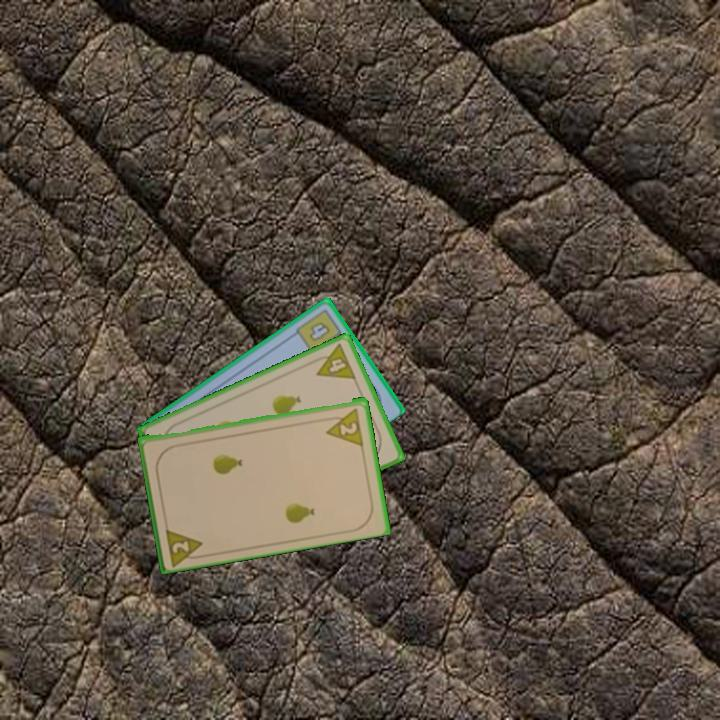2p: (162, 523, 208, 567), (321, 404, 366, 448)
4b: (292, 305, 347, 356)
4p: (308, 340, 359, 382)
